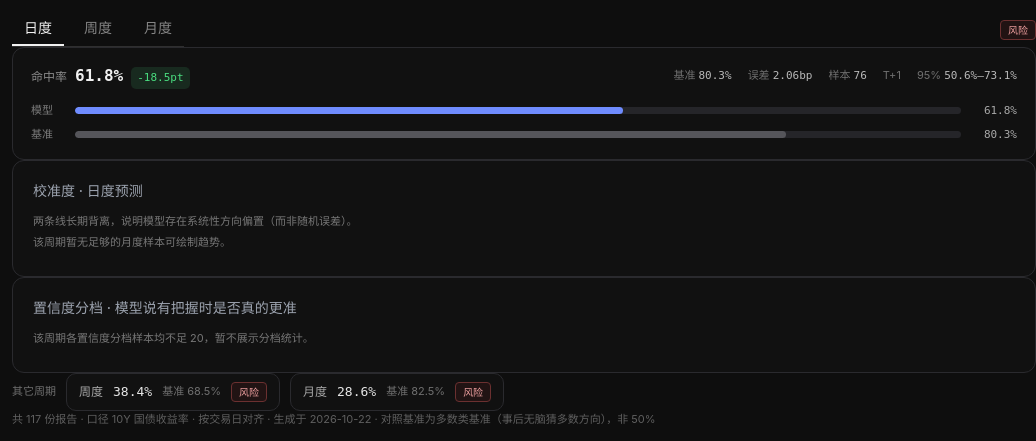
Test: ForecastDiagnosis › 切换到周度后主指标随之更新，且不丢失其它周期的横向参照
The width and height of the screenshot is (1036, 441).
Step 1. Click the button "周度" → point(98, 29), box [72,12,124,46]
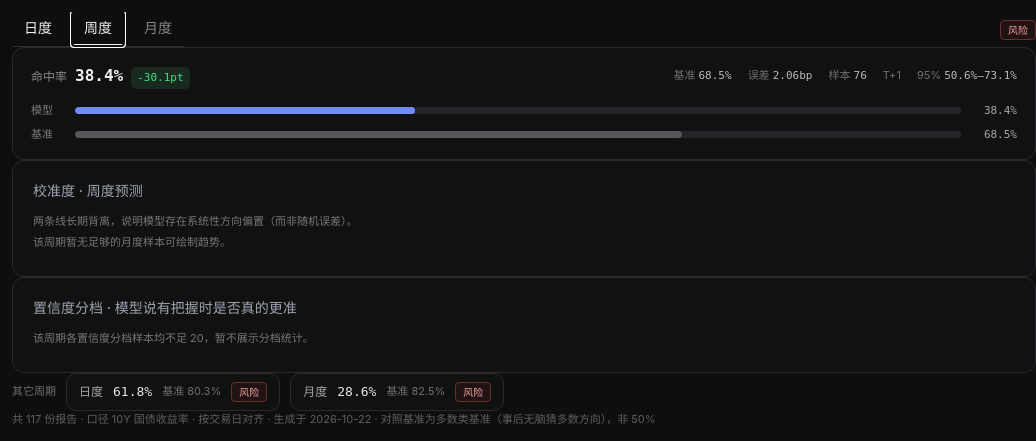
Expected: the text "其它周期" is shown, [12,383,56,401]
Now the text "38.4%" next to "命中率" is shown, box [75,66,123,85]
Now the text "68.5%" in the row of "2.06bp" is shown, box [698,69,732,82]
